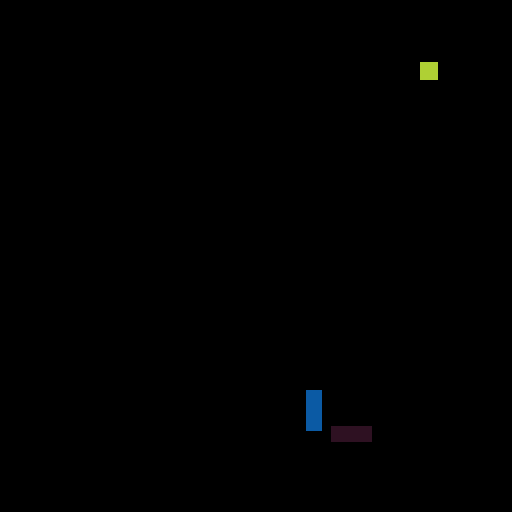side_rect: (326, 419, 377, 449)
square: (416, 59, 446, 85)
up_rect: (302, 387, 325, 433)
